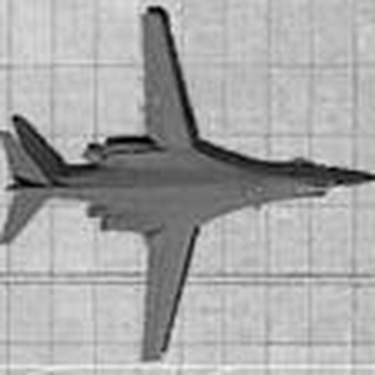airplane: (2, 1, 368, 365)
